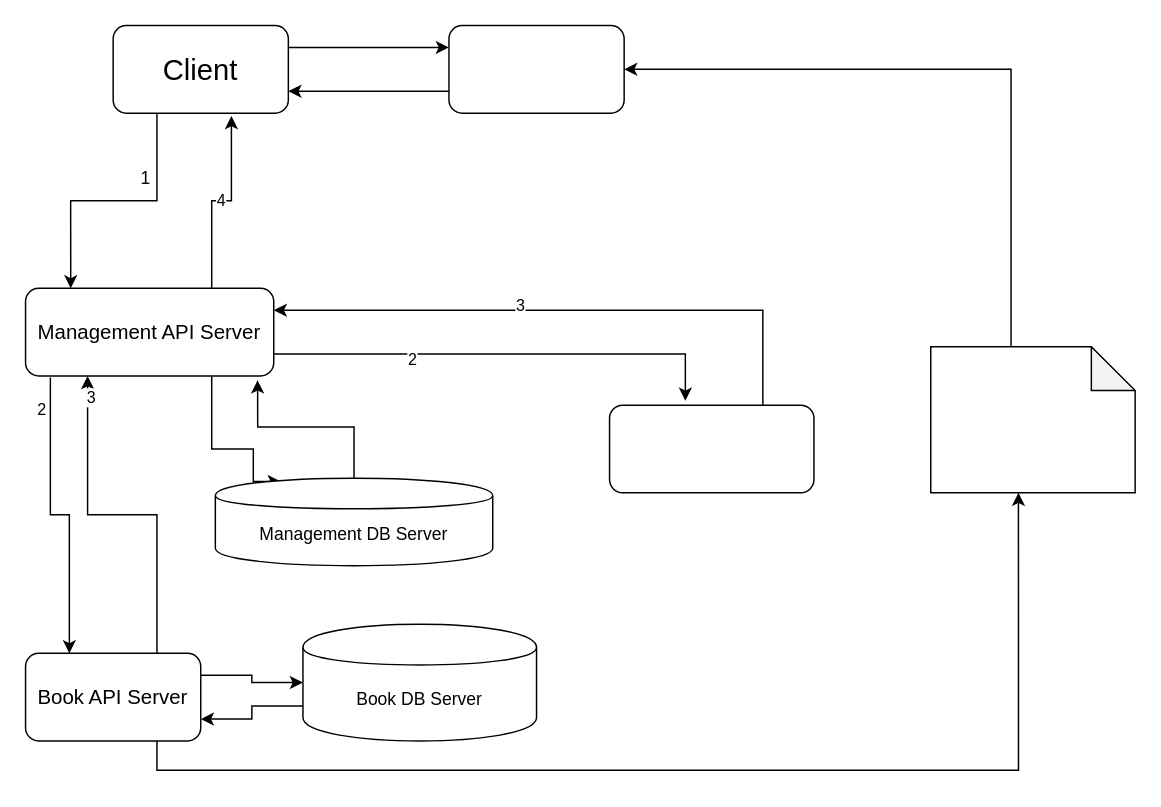
The diagram is 1161 pixels wide and 807 high, and some of its shapes have lost their labels. Each missing label, with the centre of its shape:
"Book IMG Server" goes at (x=535, y=68).
"BookImg Storage" goes at (x=1032, y=419).
"OpenDB API Server" goes at (x=711, y=448).
